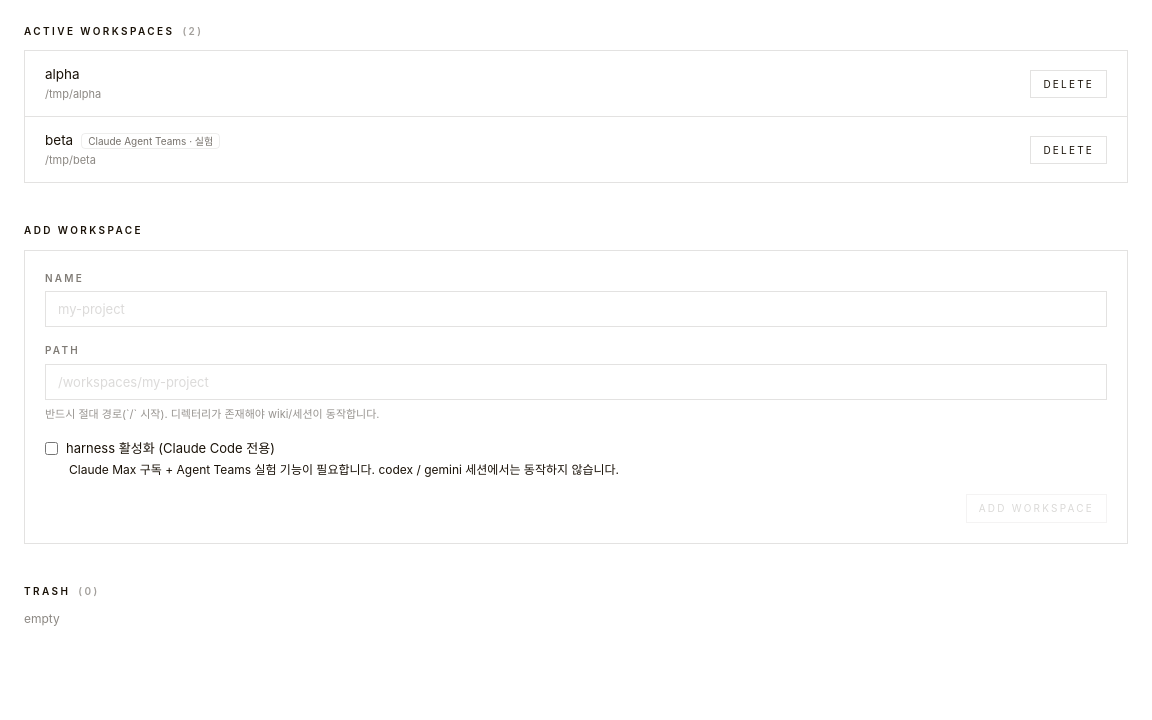
<WorkspacesSubview> — 클릭→편집 폼 › 워크스페이스 행 클릭 시 하단에 편집 폼이 나타난다 (Save/Cancel)
Check: the text "alpha" is shown, box [45,65,80,85]
Click the button "alpha /tmp/alpha" at (62, 74), box [45,65,1018,102]
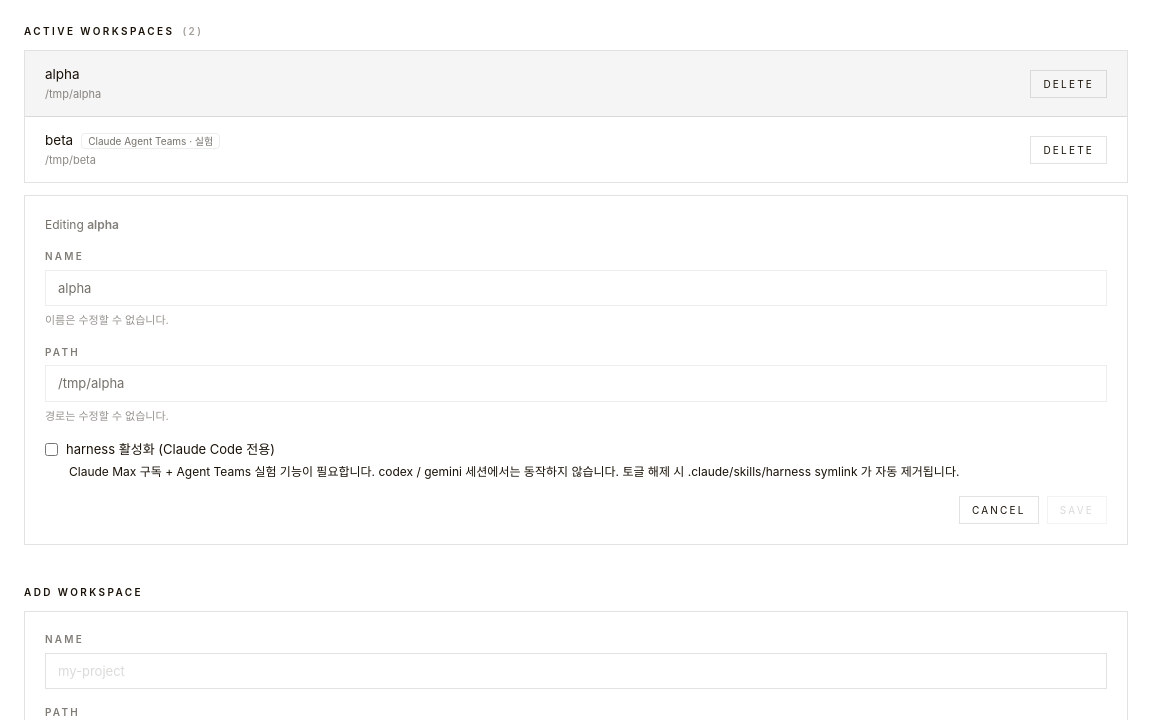
Check: the text "Editing alpha" is shown, box [45,217,119,232]
Check: the button "Save" is shown, box [1047,496,1107,524]
Check: the button "Cancel" is shown, box [959,496,1039,524]
